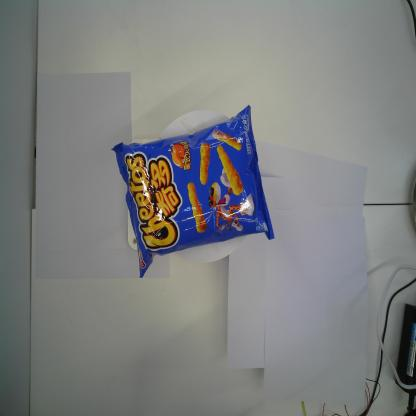Puffed Food: (111, 103, 276, 279)
